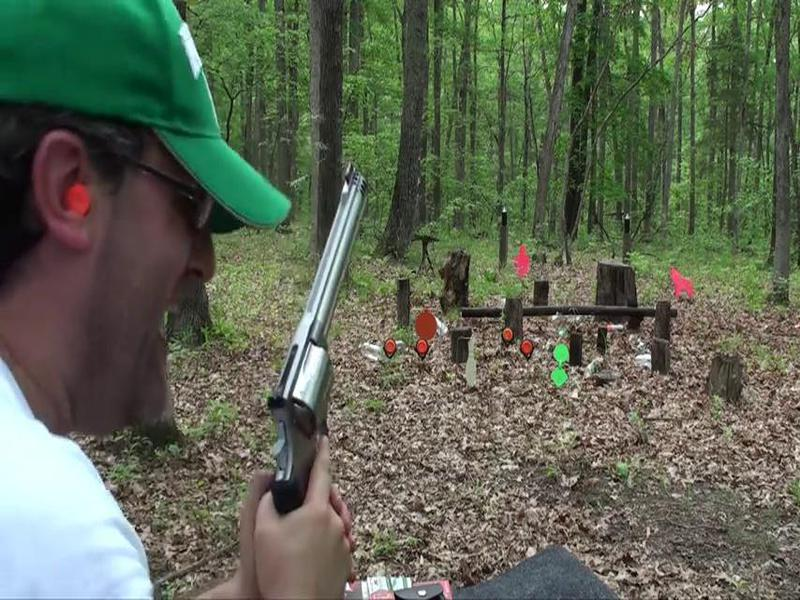Revolver: (256, 168, 395, 526)
